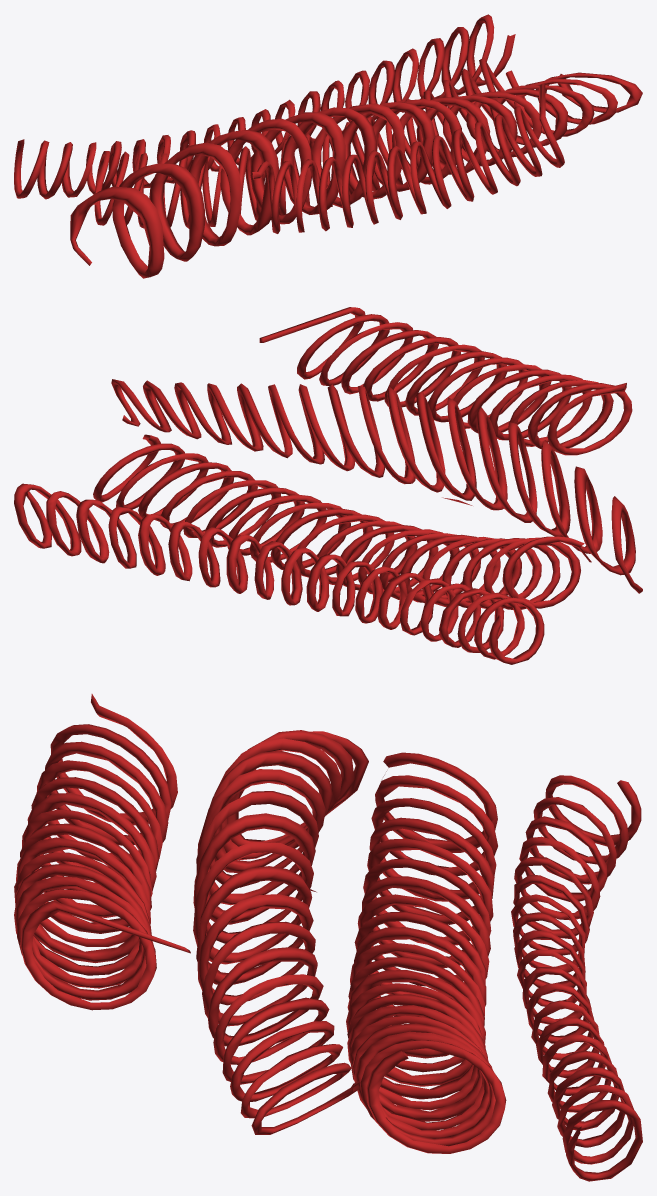
The model's file is RNA.FBX.
The picture shows the model from 3 angles, top to bottom: view 1: azimuth 30°, elevation 25°; view 2: azimuth 150°, elevation 25°; view 3: azimuth 270°, elevation 25°; orthographic projection. The views are drawn at different scales.
Parts seen in each view (by area): view 1: Object001, Object002, Object003, Object004; view 2: Object004, Object001, Object003, Object002; view 3: Object004, Object001, Object002, Object003.
Boxes of the visible parts, <box> form: Object001: <box>70,72,642,278</box>; Object002: <box>252,83,564,233</box>; Object003: <box>14,14,515,199</box>; Object004: <box>94,57,530,228</box>; Object004: <box>93,434,591,609</box>; Object001: <box>111,379,642,593</box>; Object003: <box>14,483,544,664</box>; Object002: <box>259,307,632,455</box>; Object004: <box>346,752,506,1153</box>; Object001: <box>193,730,368,1134</box>; Object002: <box>14,694,190,1010</box>; Object003: <box>511,775,642,1181</box>.
Bounding box in the file's own units: 12.11 × 3.28 × 8.12.
